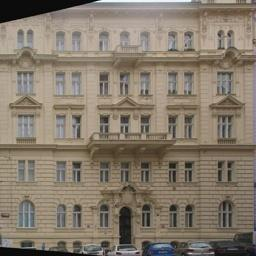building: (0, 4, 256, 256)
